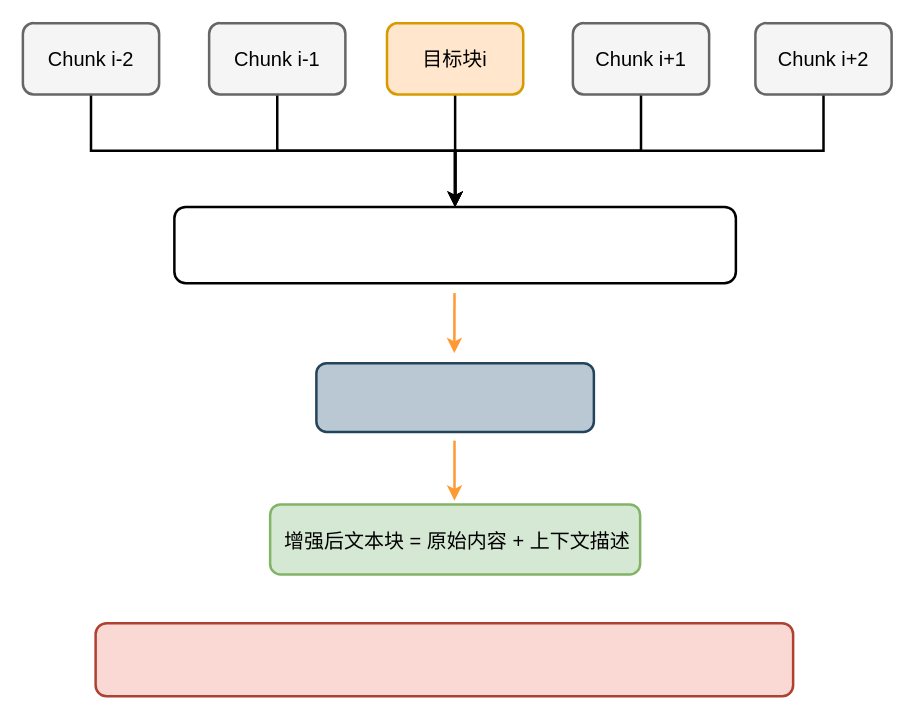
Some shapes in this 914 by 719 pixel diagram are drawn without their labels. Here are the shapes that lost their labels. From the top down, the box of each, then its label:
(172, 205, 736, 284): 滑动窗口（window_size=5）
(314, 361, 594, 432): LLM生成上下文描述
(94, 621, 794, 697): 核心优势：在可控计算开销内有效缓解语义断裂，实现成本与效果的最佳平衡
